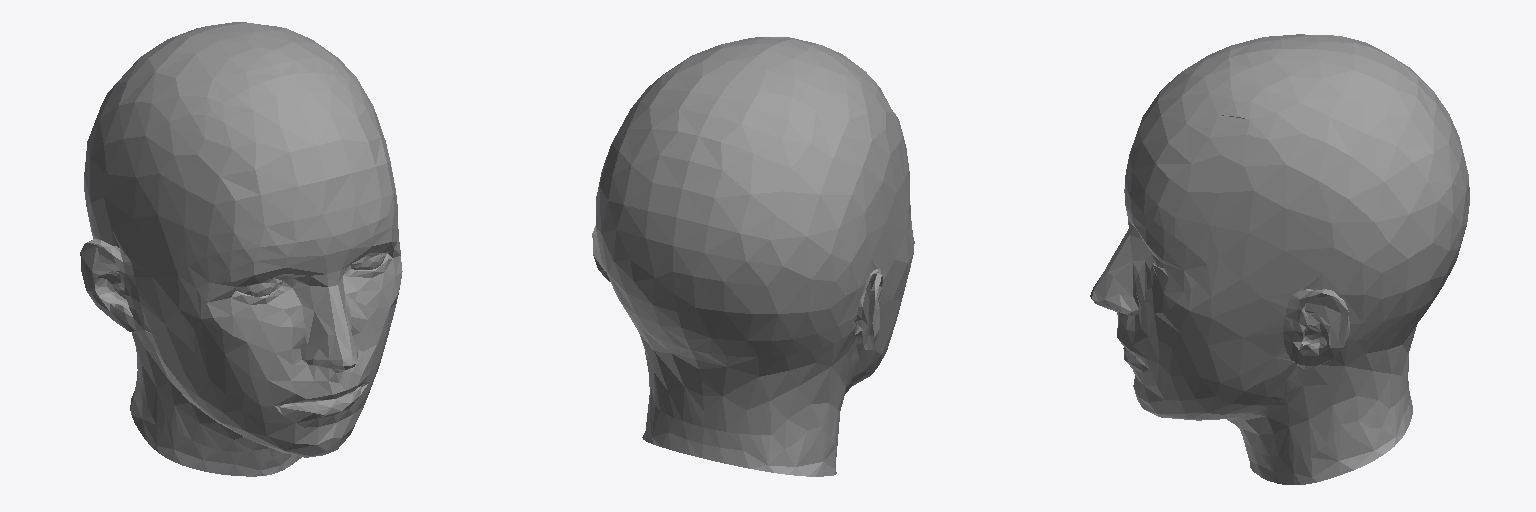
The model's file is BaseHeadMeshes_v5_female_cropped_reduced_compressed.obj.
The picture shows the model from 3 angles: view 1: azimuth 30°, elevation 25°; view 2: azimuth 150°, elevation 25°; view 3: azimuth 270°, elevation 25°; orthographic projection.
Visible parts, largest first — view 1: mmGroup0; view 2: mmGroup0; view 3: mmGroup0.
Boxes of the visible parts, box(x1,y1,x2,y2) form: mmGroup0: box(80, 22, 402, 476); mmGroup0: box(592, 37, 914, 476); mmGroup0: box(1090, 34, 1469, 484).
Size of the model in its own units: 0.1727 by 0.2423 by 0.201.